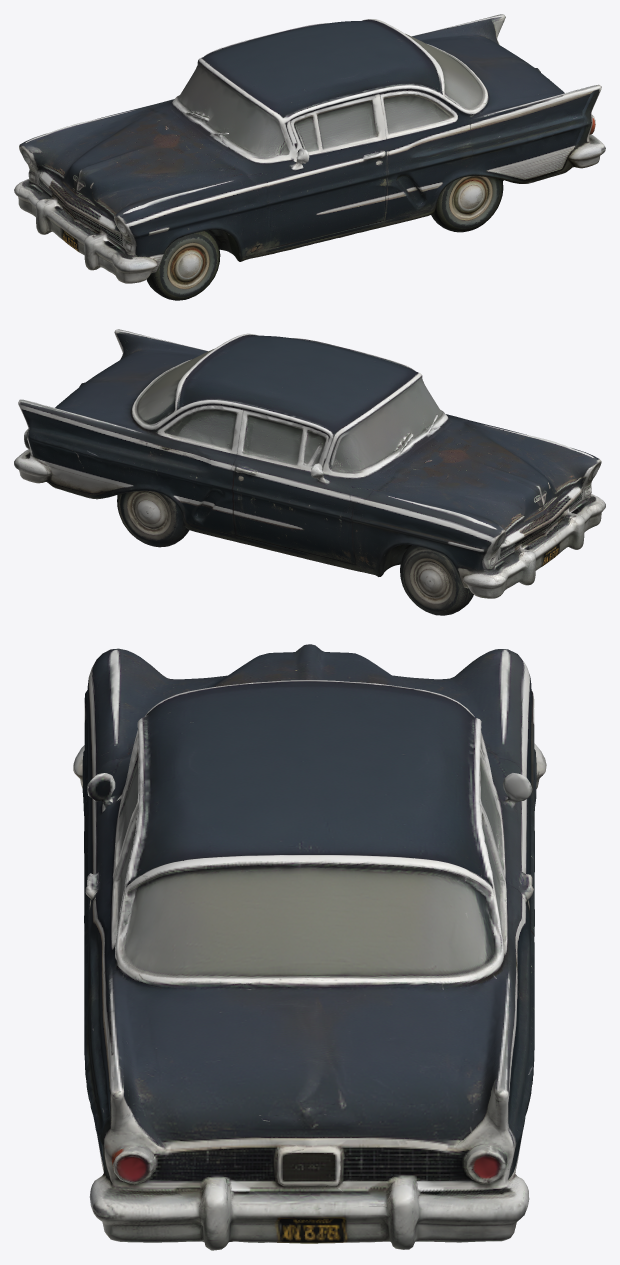
Rendered from Meshy_AI_1960s_American_classi_0501164232_texture.fbx.
3 renders of one model, top to bottom at view 1: azimuth 30°, elevation 25°; view 2: azimuth 150°, elevation 25°; view 3: azimuth 270°, elevation 25°, orthographic. The views are drawn at different scales.
Parts seen in each view (by area): view 1: Mesh_0; view 2: Mesh_0; view 3: Mesh_0.
Boxes of the visible parts, x1,y1,x2,y2 form: Mesh_0: (14,14,605,300); Mesh_0: (14,329,605,615); Mesh_0: (73,644,546,1250).
Bounding box in the file's own units: 191 × 62.5 × 78.82.
1 material, 1 textured.
